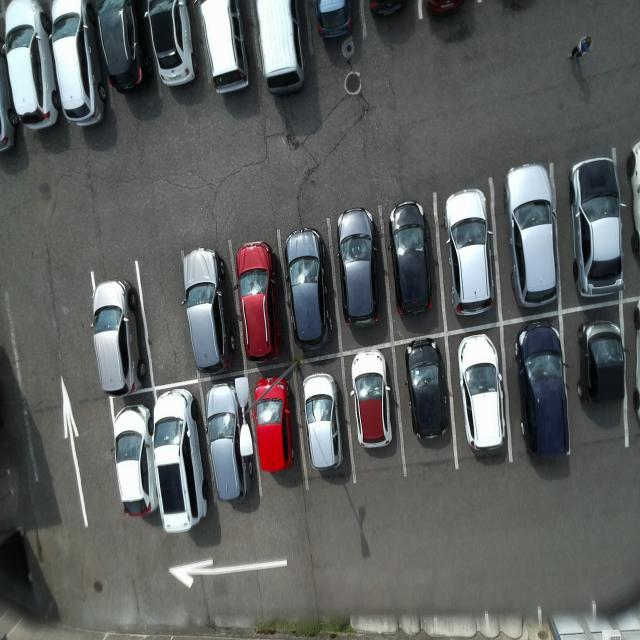car: (501, 163, 560, 317), (153, 386, 212, 540), (515, 324, 573, 466), (4, 1, 62, 141), (569, 157, 624, 304), (49, 1, 109, 134), (90, 265, 148, 401), (444, 184, 502, 319), (181, 246, 235, 373), (456, 335, 511, 454), (286, 225, 336, 354), (337, 206, 386, 336), (236, 242, 285, 367), (114, 398, 161, 520), (390, 201, 437, 321), (299, 367, 349, 478), (206, 387, 250, 510), (348, 349, 398, 452), (406, 336, 453, 445), (252, 379, 300, 480), (578, 318, 628, 414)
free_space: (136, 261, 204, 393)
